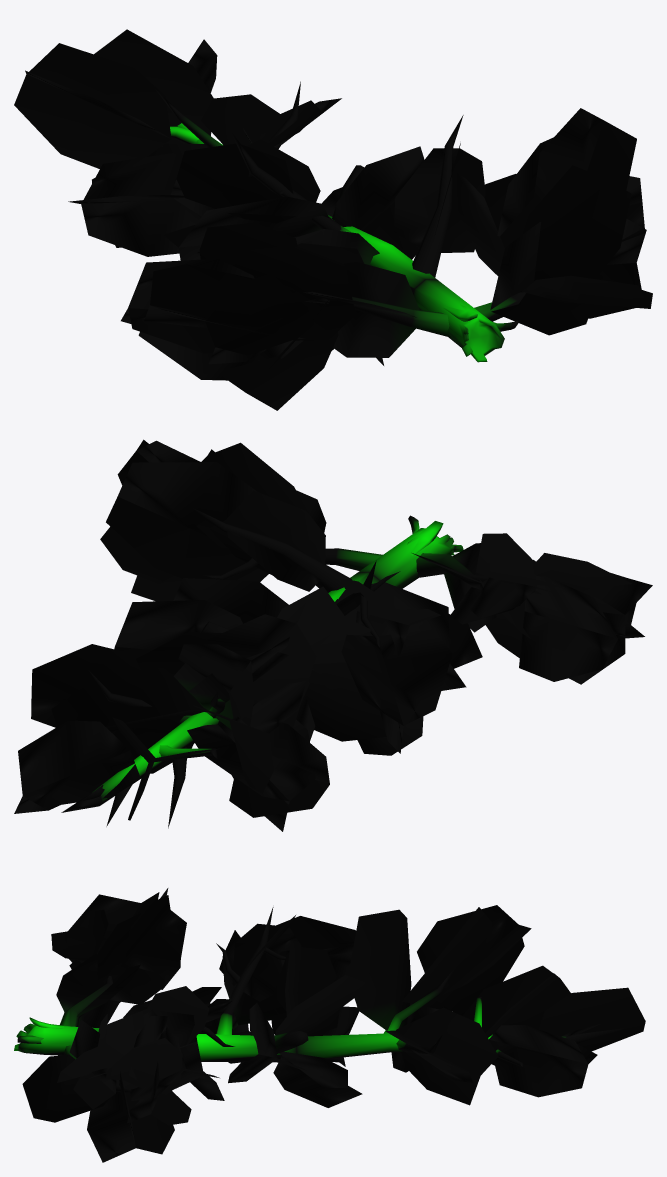
File: SM_FirFallen3.fbx
3 views of the same model, one above another, from view 1: azimuth 30°, elevation 25°; view 2: azimuth 150°, elevation 25°; view 3: azimuth 270°, elevation 25° (orthographic). The views are drawn at different scales.
Visible parts, largest first — view 1: FirFallen3; view 2: FirFallen3; view 3: FirFallen3.
Part boxes in pixels (<box>): FirFallen3: <box>14,29,652,410</box>; FirFallen3: <box>14,439,652,831</box>; FirFallen3: <box>14,888,645,1162</box>.
Bounding box in the file's own units: 1210 × 534 × 1619.
